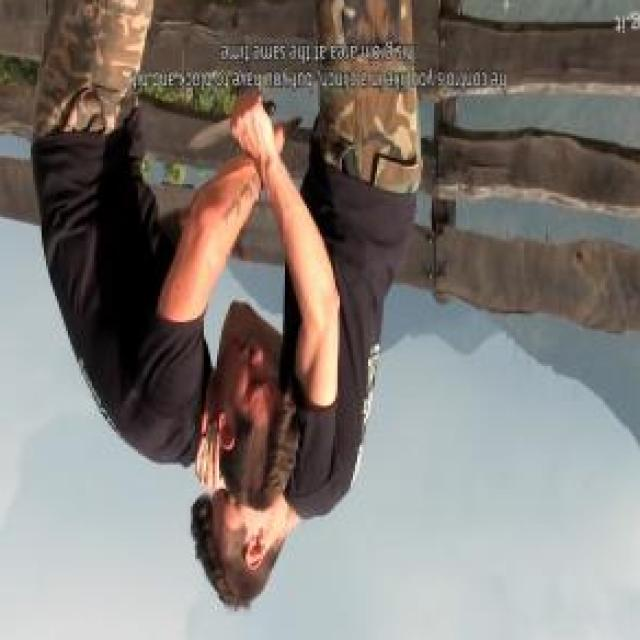knife: (183, 91, 278, 167)
